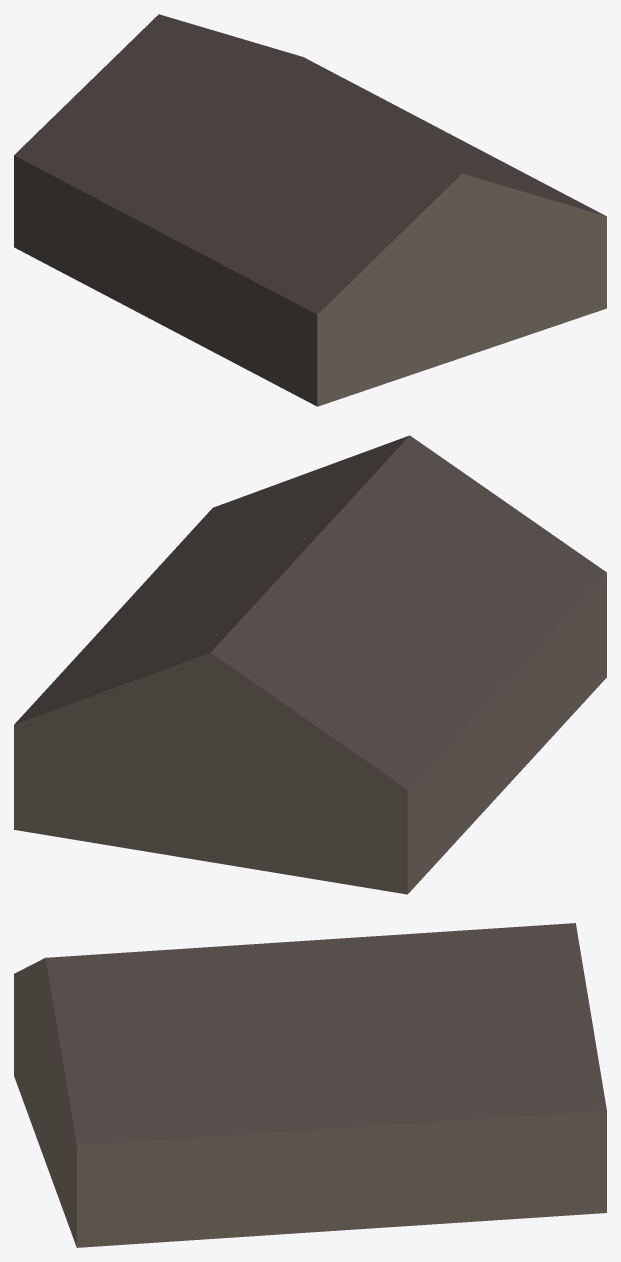
The picture shows the model from 3 angles, top to bottom: view 1: azimuth 30°, elevation 25°; view 2: azimuth 150°, elevation 25°; view 3: azimuth 270°, elevation 25°; orthographic projection. The views are drawn at different scales.
Visible parts, largest first — view 1: HP-w858807461; view 2: HP-w858807461; view 3: HP-w858807461.
Part boxes in pixels (bbox=[...]): HP-w858807461: bbox=[14, 14, 606, 406]; HP-w858807461: bbox=[14, 435, 606, 894]; HP-w858807461: bbox=[14, 923, 606, 1247].
Size of the model in its own units: 13.03 by 6 by 15.8.
